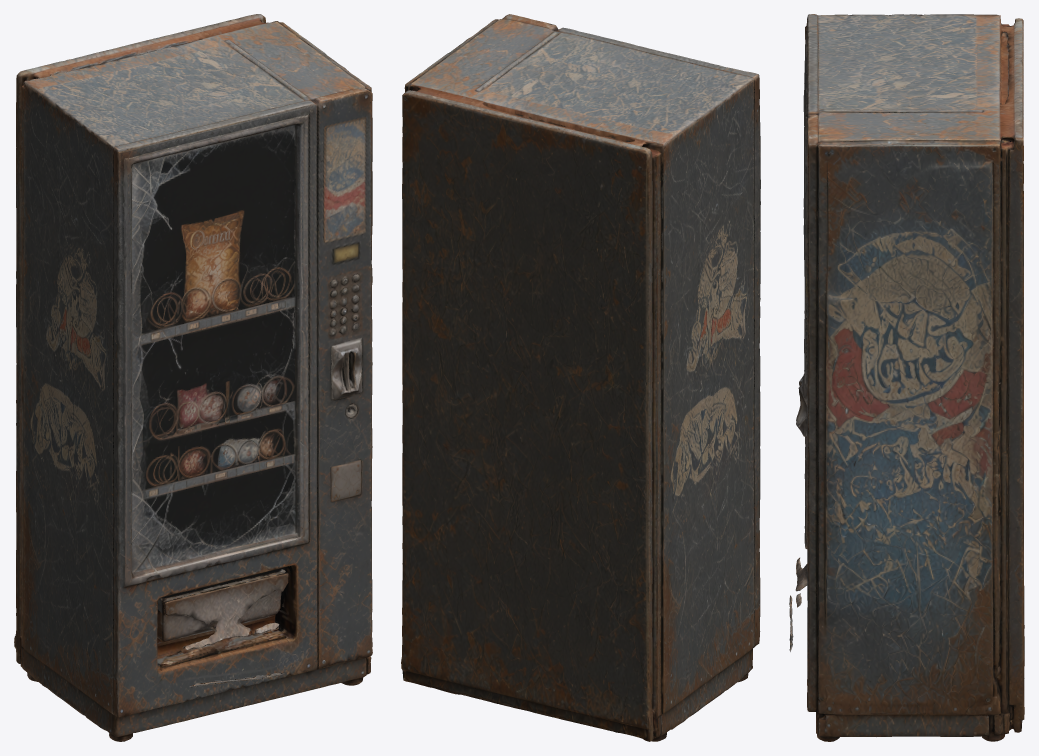
File: VendingMachine.fbx
3 renders of one model, left to right at view 1: azimuth 30°, elevation 25°; view 2: azimuth 150°, elevation 25°; view 3: azimuth 270°, elevation 25°, orthographic.
Visible parts, largest first — view 1: texture_mapping; view 2: texture_mapping; view 3: texture_mapping.
Part boxes in pixels (<box>): texture_mapping: <box>14,14,372,741</box>; texture_mapping: <box>401,14,760,741</box>; texture_mapping: <box>789,14,1024,741</box>.
Bounding box in the file's own units: 0.4602 × 0.3525 × 1.
1 material, 1 textured.
